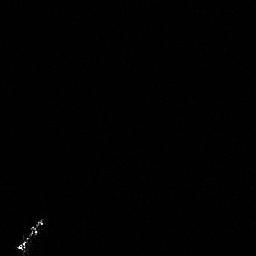ship: (12, 215, 49, 254)
